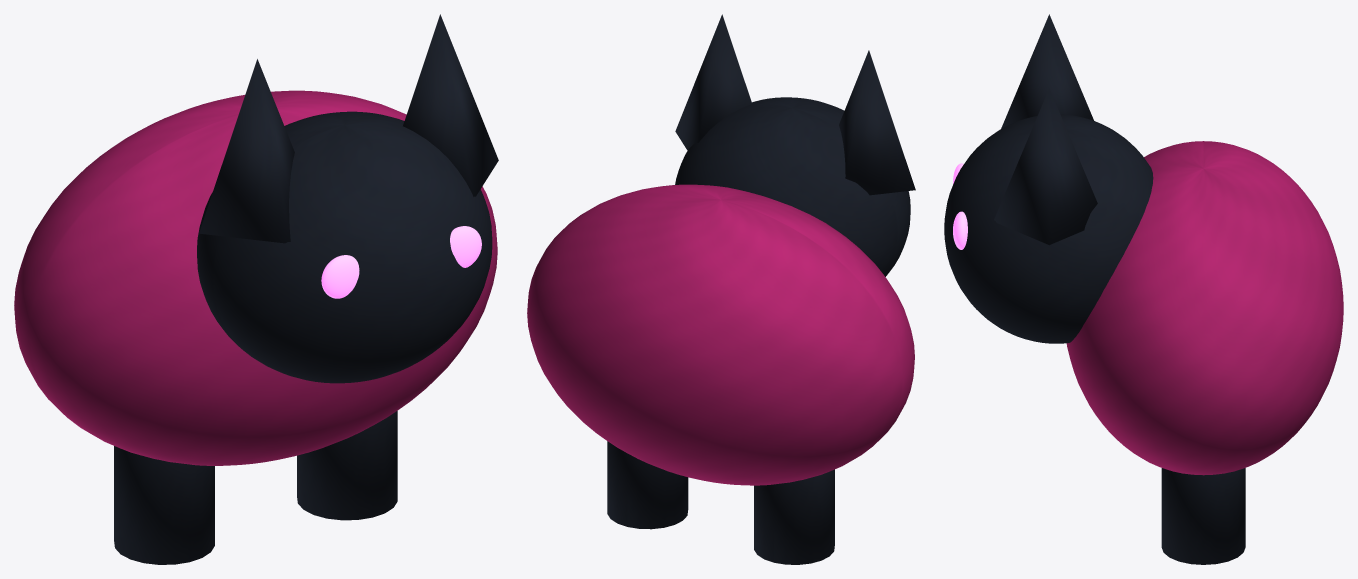
Rendered from Thief_pet.glb.
3 views of the same model, side by side, from view 1: azimuth 30°, elevation 25°; view 2: azimuth 150°, elevation 25°; view 3: azimuth 270°, elevation 25° (orthographic). The views are drawn at different scales.
Visible parts, largest first — view 1: Body, Head, Leg, Ear, Leg.002, Ear.001, Eye, Eye.001; view 2: Body, Head, Leg, Ear, Leg.002, Ear.001; view 3: Body, Head, Ear.001, Leg.002, Ear.
Part boxes in pixels (x1=…): Body: x1=14, y1=90, x2=497, y2=465; Head: x1=197, y1=111, x2=492, y2=383; Leg: x1=114, y1=446, x2=214, y2=564; Ear: x1=199, y1=59, x2=294, y2=243; Leg.002: x1=297, y1=411, x2=397, y2=520; Ear.001: x1=403, y1=14, x2=498, y2=196; Eye: x1=321, y1=255, x2=359, y2=298; Eye.001: x1=450, y1=226, x2=481, y2=267; Body: x1=527, y1=184, x2=914, y2=485; Head: x1=675, y1=97, x2=910, y2=276; Leg: x1=754, y1=469, x2=834, y2=564; Ear: x1=839, y1=50, x2=915, y2=195; Leg.002: x1=607, y1=441, x2=688, y2=529; Ear.001: x1=675, y1=14, x2=752, y2=150; Body: x1=1066, y1=141, x2=1343, y2=475; Head: x1=944, y1=114, x2=1153, y2=343; Ear.001: x1=994, y1=88, x2=1097, y2=245; Leg.002: x1=1161, y1=468, x2=1245, y2=564; Ear: x1=1001, y1=14, x2=1093, y2=128.
Size of the model in its own units: 1.24 by 1.44 by 1.14.
Materials: 3 (2 with a texture image).
